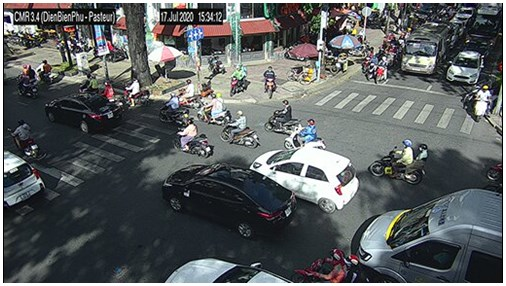xe_buyt: (356, 189, 501, 282), (401, 22, 450, 74)
xe_hoi: (162, 163, 296, 239), (250, 149, 360, 211), (164, 255, 291, 283), (45, 95, 125, 132), (3, 150, 45, 209), (446, 50, 484, 85), (464, 33, 491, 55)
xe_may: (290, 247, 368, 284), (367, 139, 428, 186), (219, 111, 260, 148), (174, 120, 212, 158), (263, 100, 301, 136), (9, 120, 41, 162), (285, 118, 325, 150), (198, 93, 231, 125), (122, 77, 152, 108), (160, 91, 188, 124), (179, 77, 204, 109), (101, 80, 125, 113), (473, 83, 490, 123), (230, 63, 246, 96), (263, 65, 277, 99), (19, 73, 38, 98), (79, 74, 99, 97), (36, 59, 53, 84), (376, 55, 389, 84), (367, 53, 378, 80), (362, 46, 373, 72), (21, 63, 36, 82)
